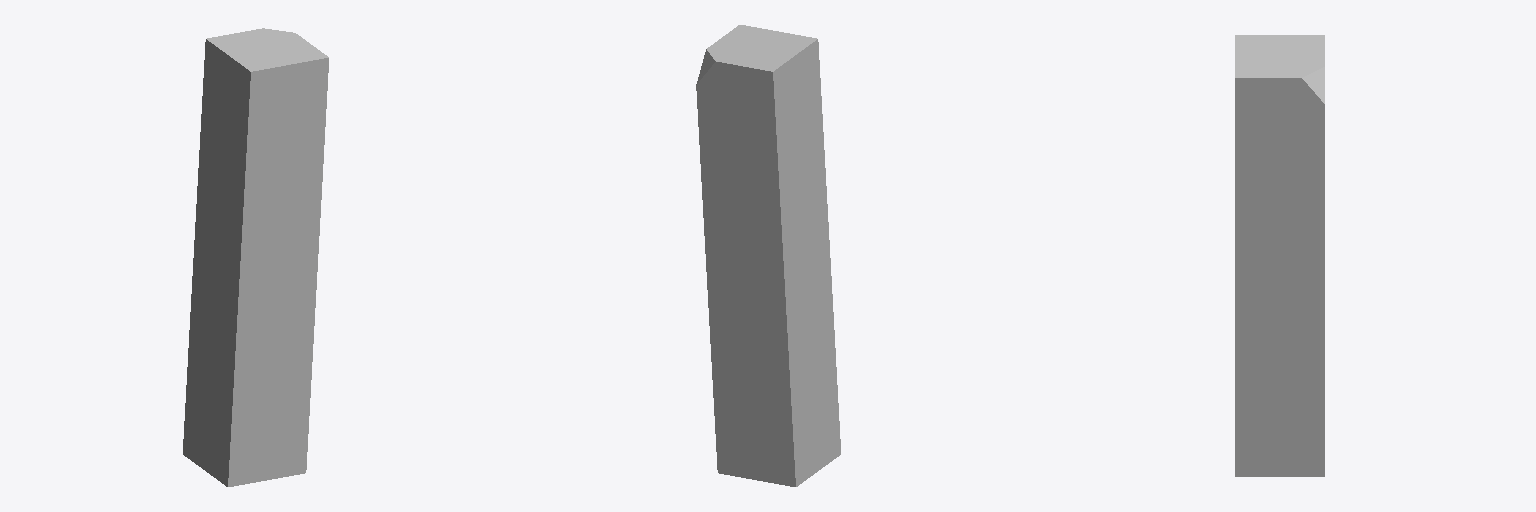
File: Prop_Fence_Post_1.obj
3 renders of one model, left to right at view 1: azimuth 30°, elevation 25°; view 2: azimuth 150°, elevation 25°; view 3: azimuth 270°, elevation 25°, orthographic.
Parts seen in each view (by area): view 1: object1; view 2: object1; view 3: object1.
Boxes of the visible parts, <box> form: object1: <box>183,28,328,486</box>; object1: <box>696,25,840,486</box>; object1: <box>1235,35,1324,476</box>.
Size of the model in its own units: 0.1938 by 0.7575 by 0.15.